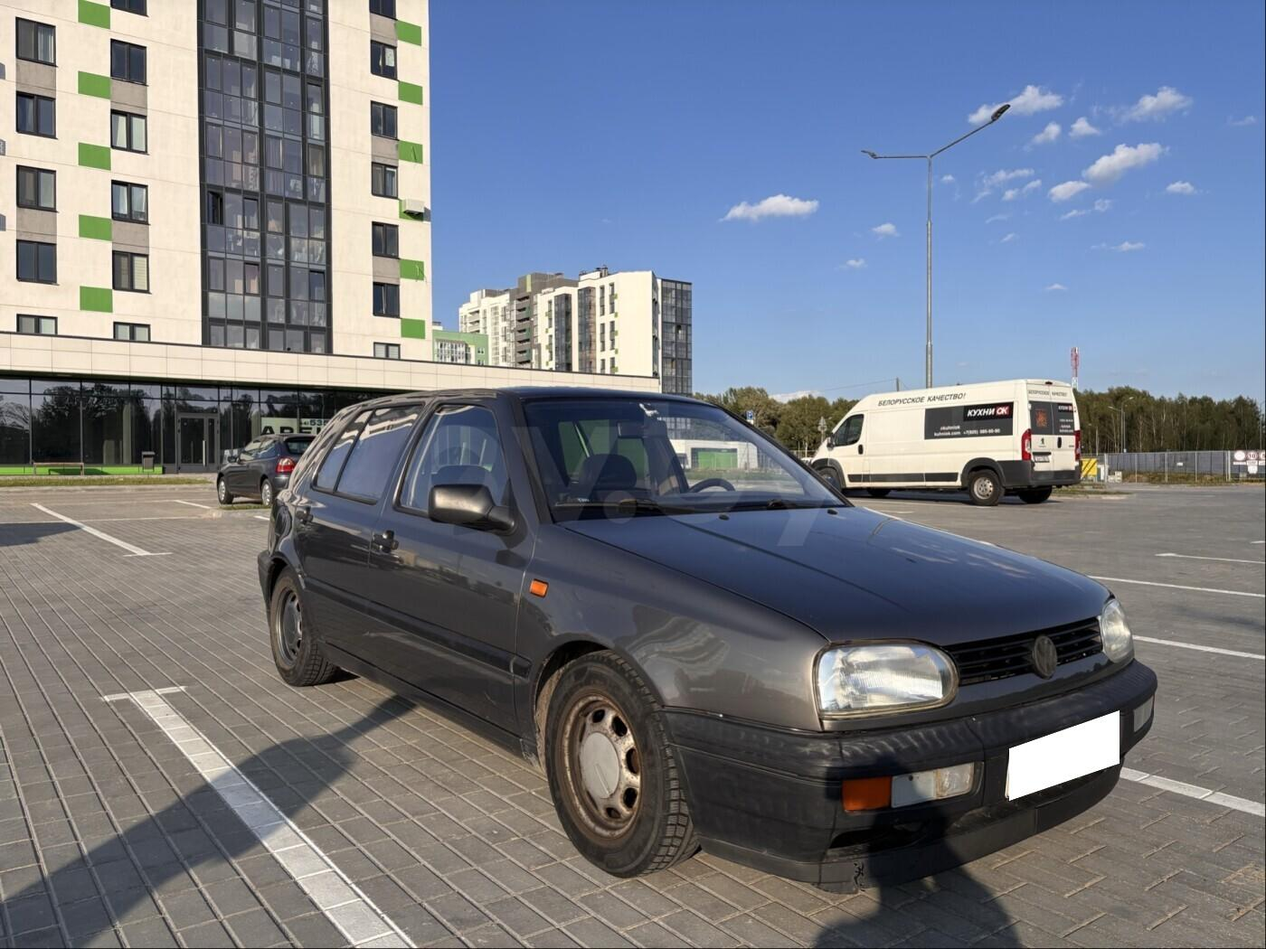Golf_1991-2000: (257, 384, 1168, 879)
